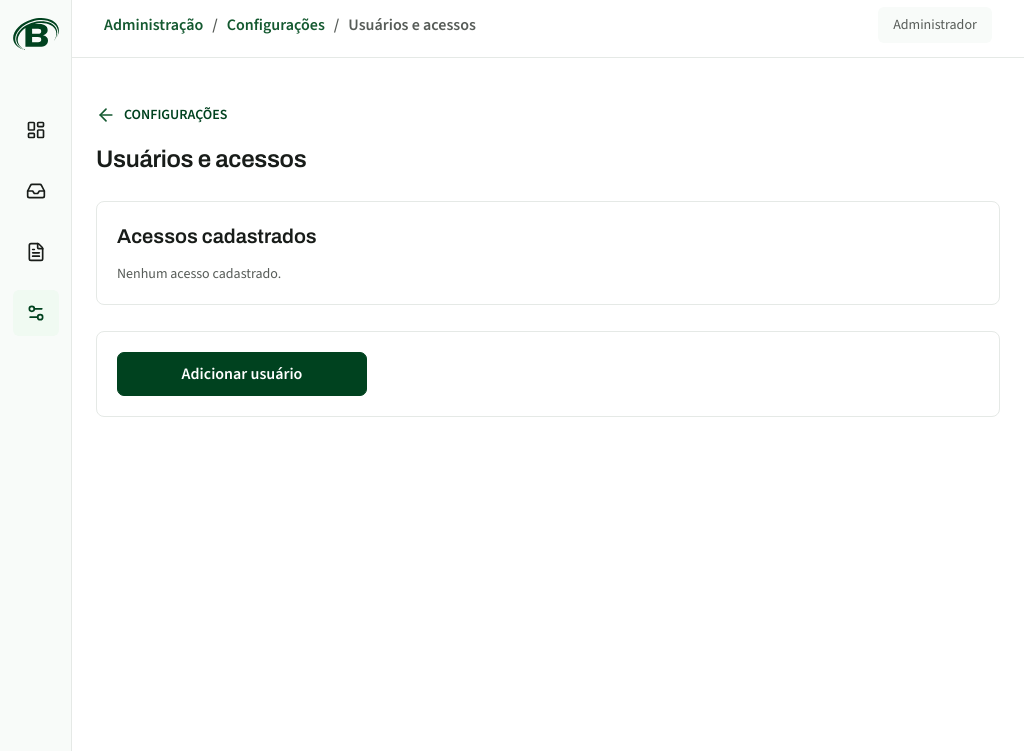
ADM-12 — formulário de criação de usuário › permite selecionar os dois perfis autorizados
What coordinates should you click on to do the following:
click the button "Adicionar usuário"
I would click on:
 (242, 374)
Its box is [117,352,367,396].
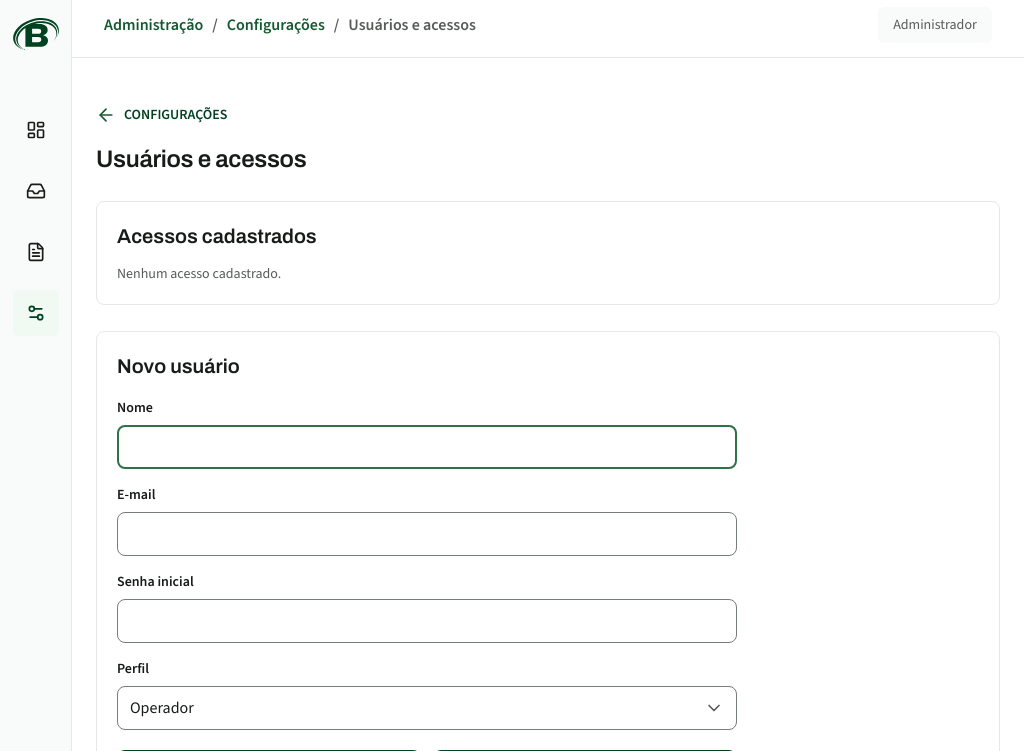
Check: the dropdown named "Perfil" reads "Operador"
What coordinates should you click on to do the following:
click the dropdown named "Perfil"
I would click on:
 (162, 708)
Its box is [117,686,737,730].
(page scrolled)
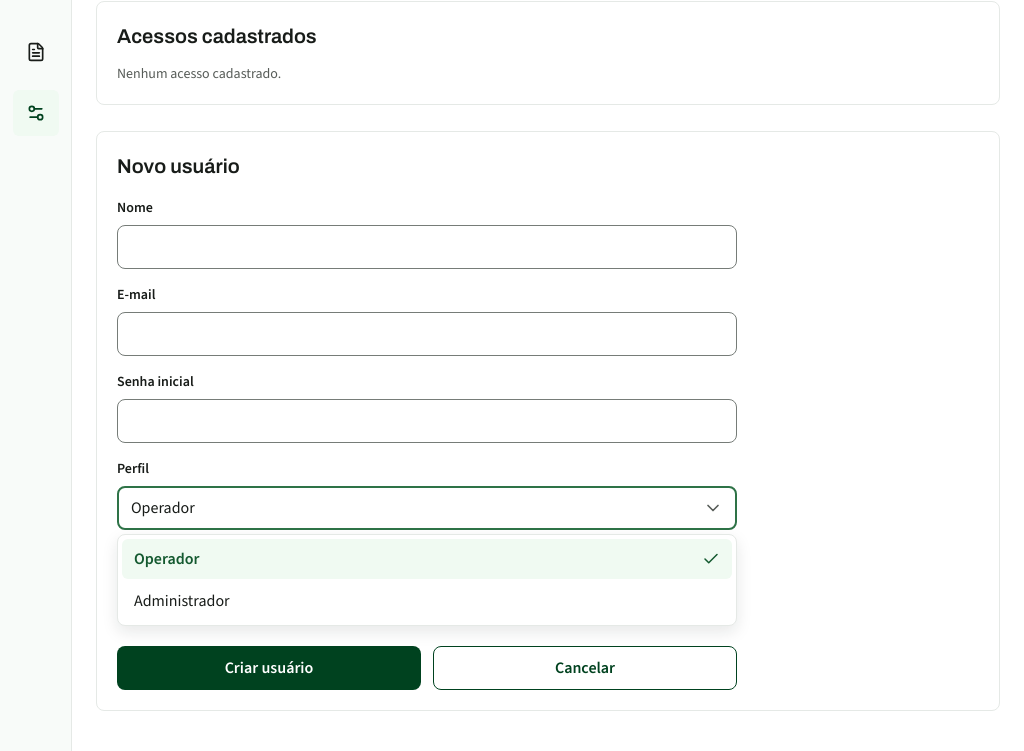
Check: the number of options is 2, box [122,539,732,579]; [122,581,732,621]
Check: the option "Operador" is shown, box [122,539,732,579]
Check: the option "Administrador" is shown, box [122,581,732,621]
